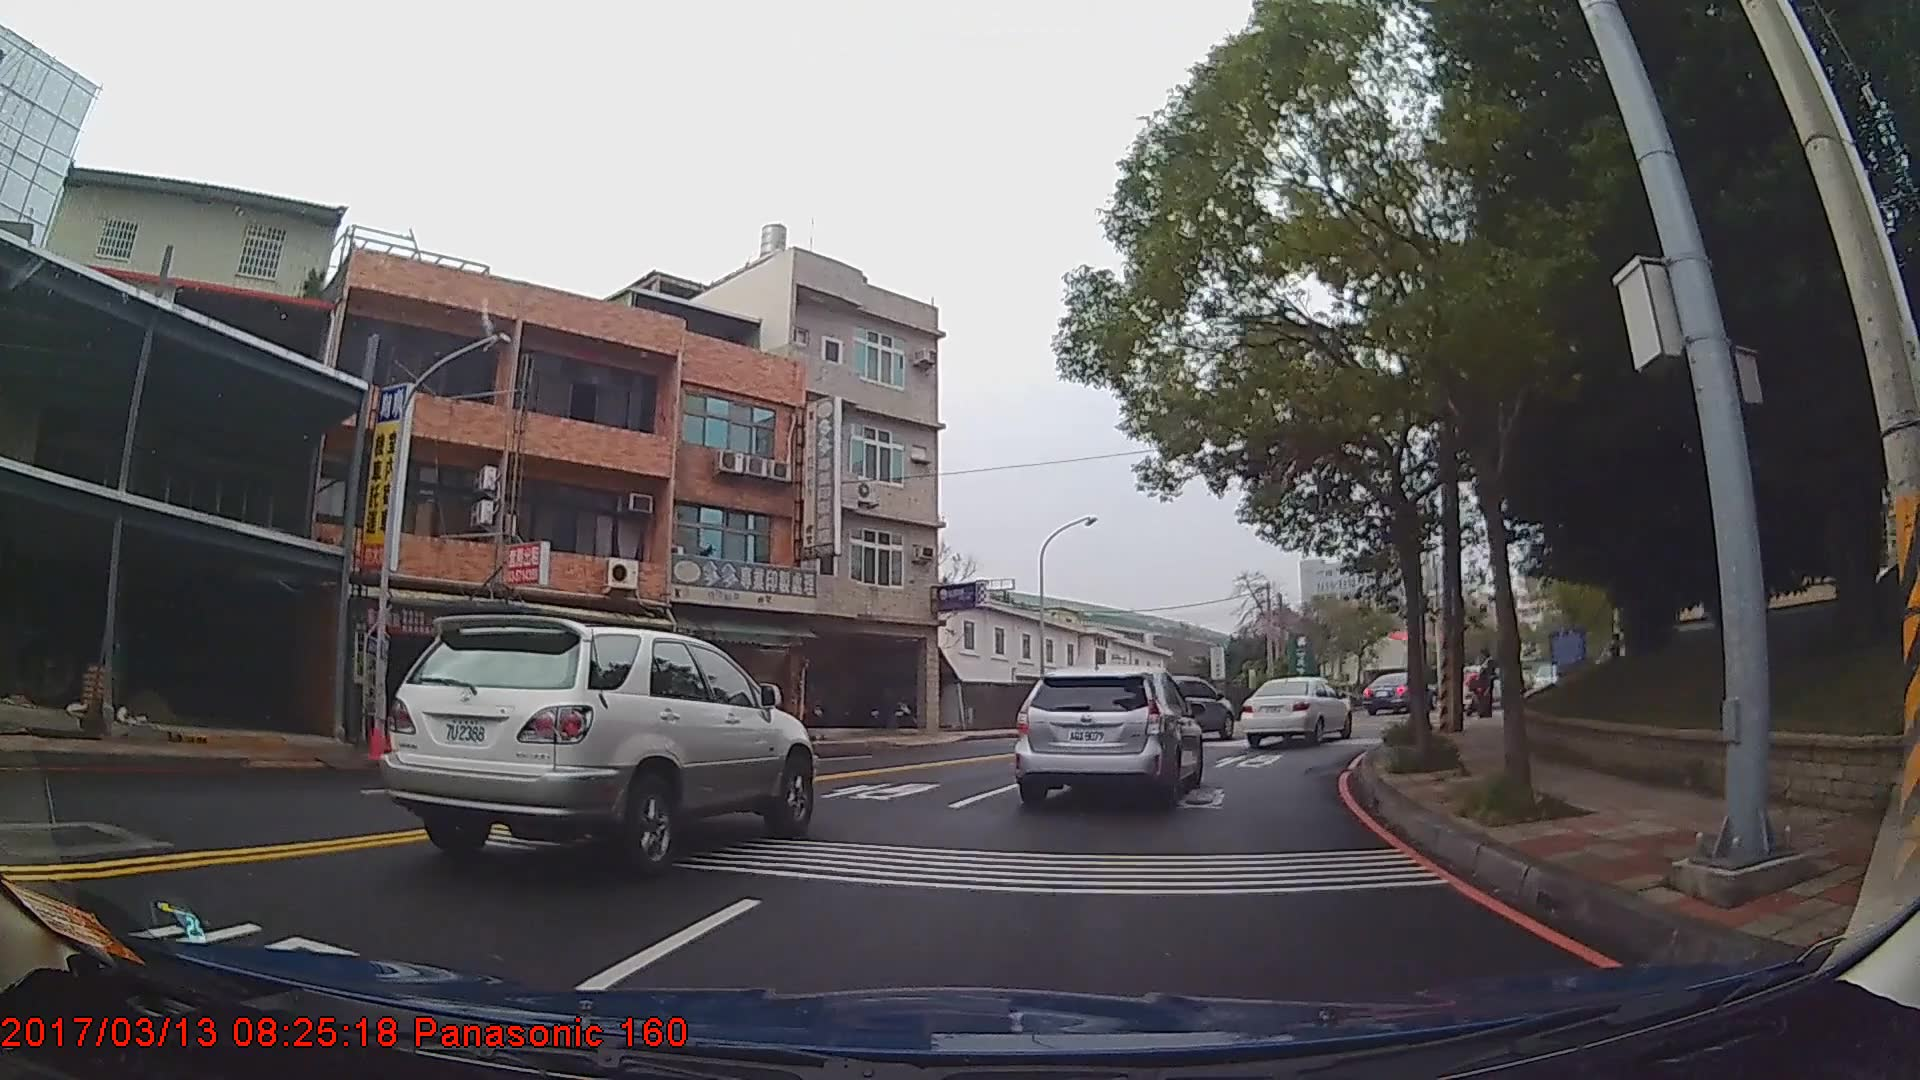vehicle: (375, 613, 816, 882), (1010, 663, 1203, 814), (1237, 673, 1353, 745), (1139, 675, 1233, 740), (1362, 670, 1429, 716)
